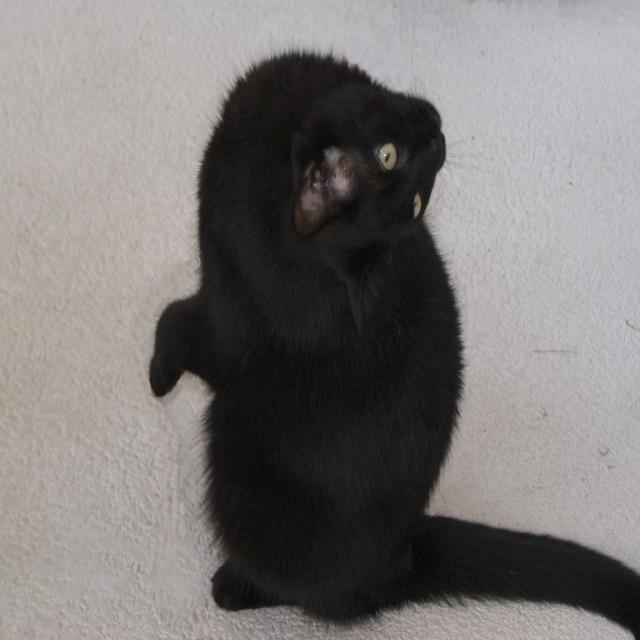Cat: (143, 48, 639, 638)
